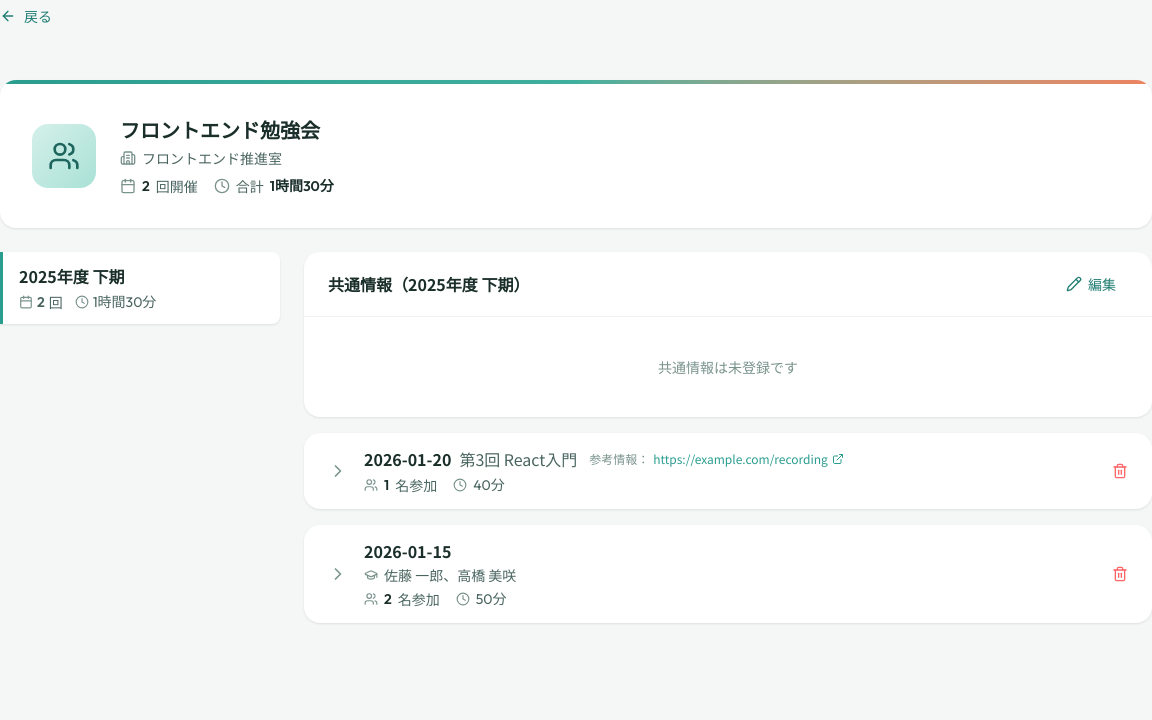
Test: GroupDetailPage › 管理者モード — セッション削除 › 削除成功後に成功メッセージが表示されること
Expected: the heading "フロントエンド勉強会" is shown, [120, 116, 334, 144]
What coordinates should you click on to do the following:
click the button named "のセッションを削除"
I would click on:
 (1120, 471)
Its box is [1104, 455, 1136, 487].
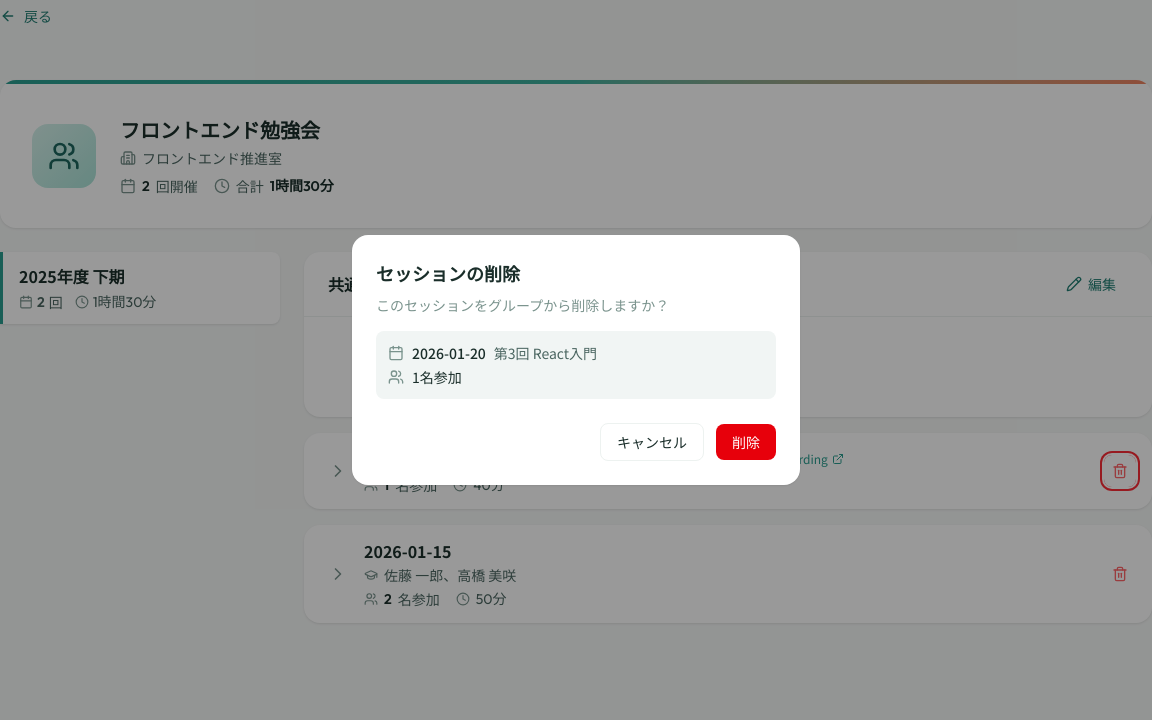
What coordinates should you click on to do the following:
click the button "削除"
I would click on:
 (746, 442)
Its box is [716, 424, 776, 460].
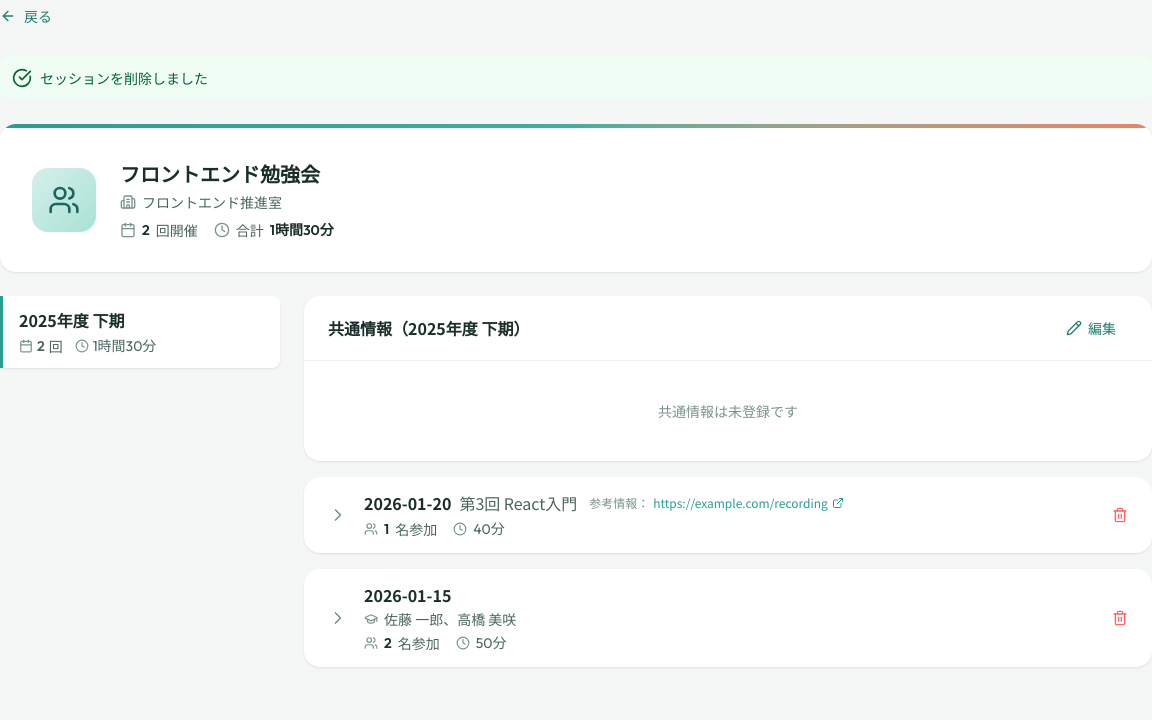
Now the text "セッションを削除しました" is shown, box [40, 68, 208, 88]
